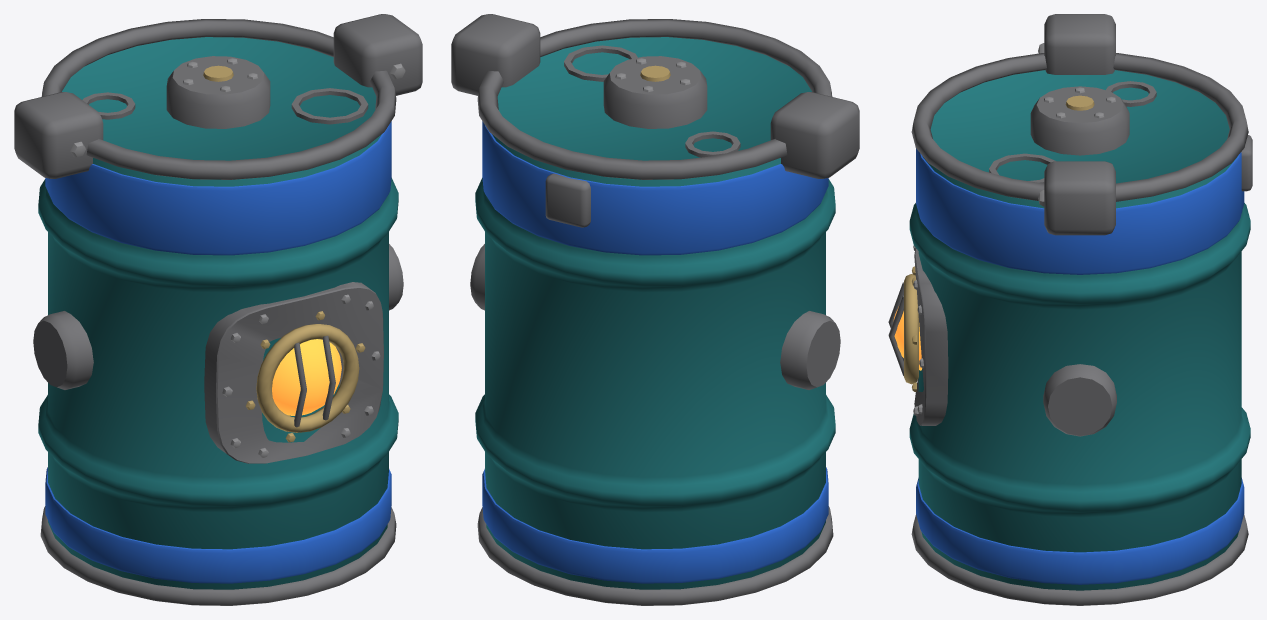
Rendered from Kit_Core_Drum.glb.
3 renders of one model, left to right at view 1: azimuth 30°, elevation 25°; view 2: azimuth 150°, elevation 25°; view 3: azimuth 270°, elevation 25°, orthographic. The views are drawn at different scales.
Parts seen in each view (by area): view 1: Kit_Core_Drum; view 2: Kit_Core_Drum; view 3: Kit_Core_Drum.
Boxes of the visible parts, box(x1,y1,x2,y2) form: Kit_Core_Drum: box(14, 14, 422, 605); Kit_Core_Drum: box(451, 14, 859, 605); Kit_Core_Drum: box(888, 14, 1252, 605).
Bounding box in the file's own units: 0.452 × 0.539 × 0.3971.
